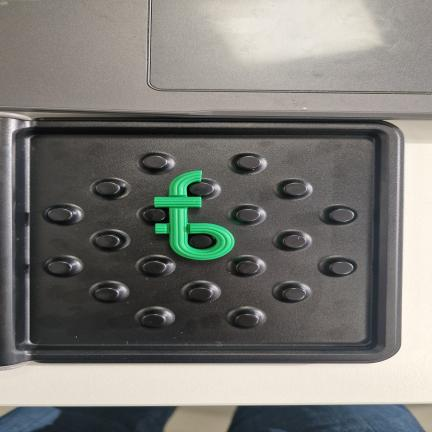D_Green: (154, 171, 234, 260)
board: (0, 118, 403, 365)
hinge: (0, 112, 38, 370)
pin: (281, 181, 309, 198), (189, 181, 216, 197), (96, 181, 121, 196), (47, 207, 73, 221), (189, 235, 215, 249), (237, 155, 261, 170), (95, 234, 120, 248), (329, 261, 354, 275), (143, 155, 167, 169), (236, 208, 260, 222), (330, 208, 354, 222), (142, 260, 166, 274), (189, 287, 213, 301), (95, 287, 119, 301), (142, 313, 166, 327), (47, 261, 72, 274), (143, 208, 166, 222), (283, 287, 306, 301), (236, 313, 259, 327), (236, 261, 260, 274), (283, 235, 306, 248)
